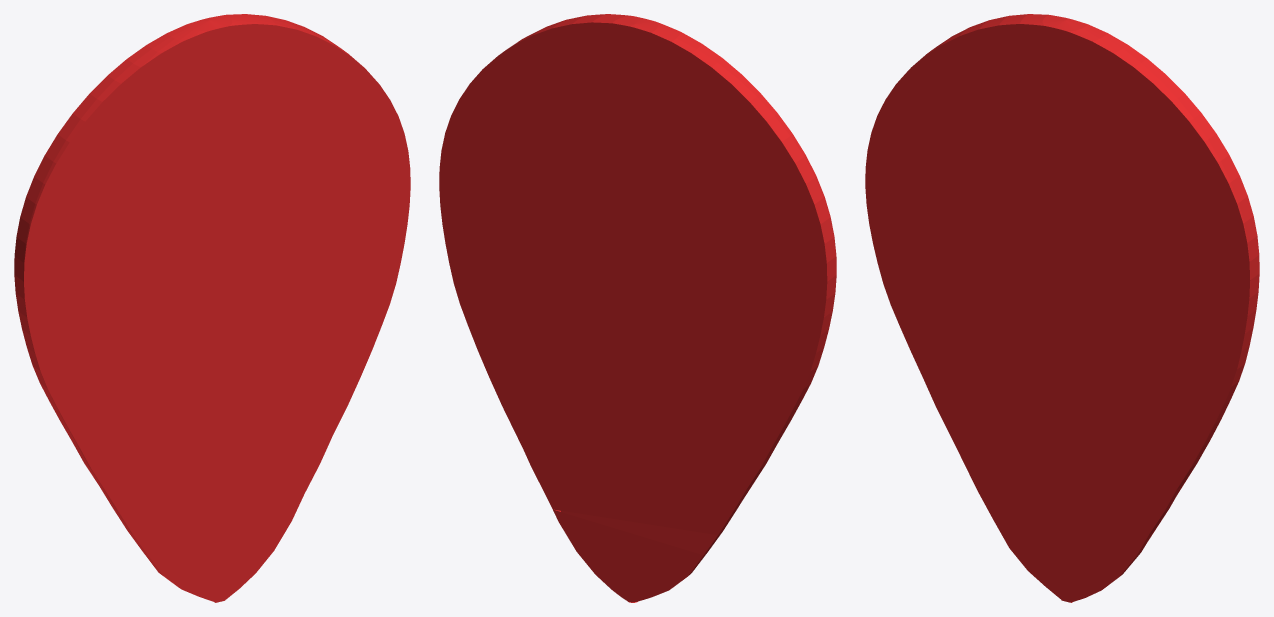
The model's file is OutlineBetter.fbx.
The picture shows the model from 3 angles, left to right: view 1: azimuth 30°, elevation 25°; view 2: azimuth 150°, elevation 25°; view 3: azimuth 330°, elevation 25°; orthographic projection.
Visible parts, largest first — view 1: Sphere; view 2: Sphere; view 3: Sphere.
Boxes of the visible parts, bbox=[...] form: Sphere: bbox=[14, 14, 410, 602]; Sphere: bbox=[439, 14, 836, 602]; Sphere: bbox=[865, 14, 1259, 602].
Bounding box in the file's own units: 191 × 273 × 10.78.
